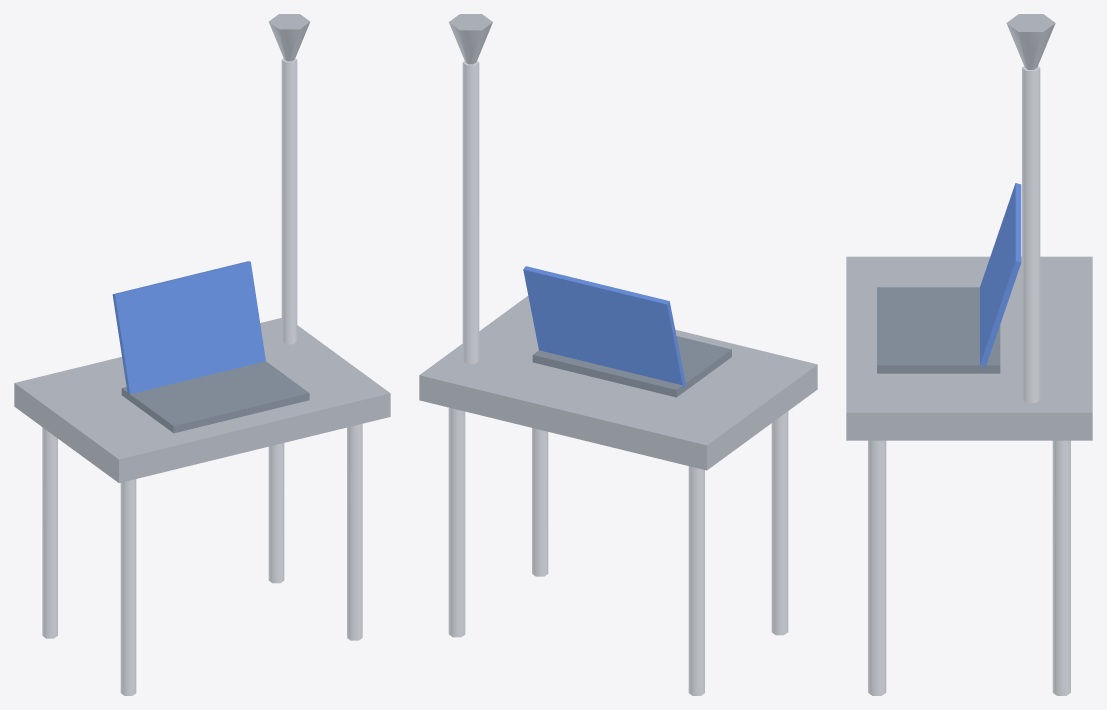
Rendered from ground_station.glb.
3 views of the same model, side by side, from view 1: azimuth 30°, elevation 25°; view 2: azimuth 150°, elevation 25°; view 3: azimuth 270°, elevation 25° (orthographic). The views are drawn at different scales.
Bounding box in the file's own units: 0.6 × 1.2 × 0.4.
